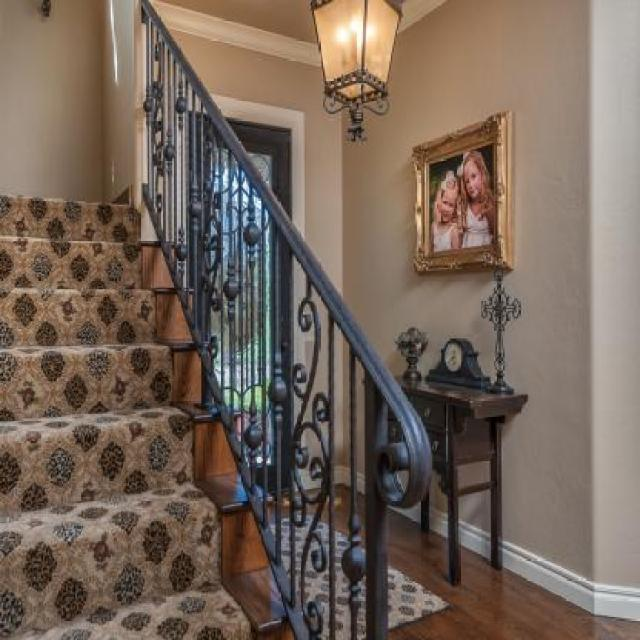stair: (0, 194, 308, 640)
